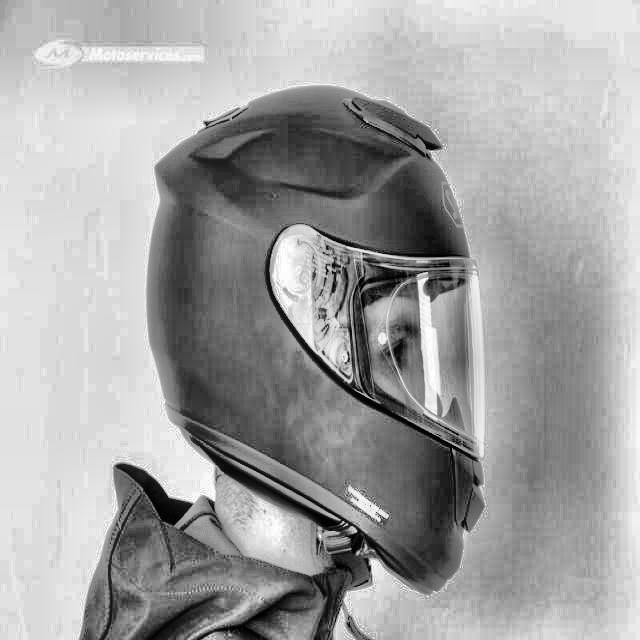Helmet: (138, 72, 490, 602)
